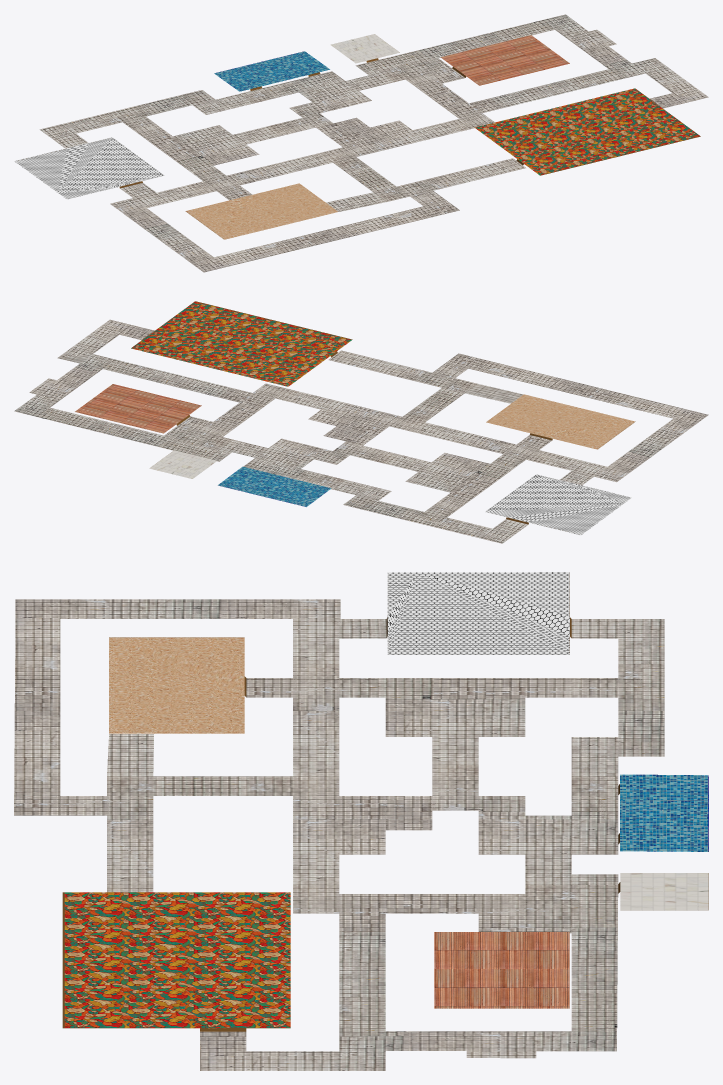
The model's file is floor1.fbx.
3 views of the same model, one above another, from view 1: azimuth 30°, elevation 25°; view 2: azimuth 150°, elevation 25°; view 3: azimuth 270°, elevation 25° (orthographic). The views are drawn at different scales.
Parts seen in each view (by area): view 1: floor2; view 2: floor2; view 3: floor2.
Boxes of the visible parts, bbox=[...] form: floor2: bbox=[14, 14, 708, 272]; floor2: bbox=[14, 301, 708, 543]; floor2: bbox=[14, 572, 708, 1070].
Bounding box in the file's own units: 5054 × 12.43 × 2991.
